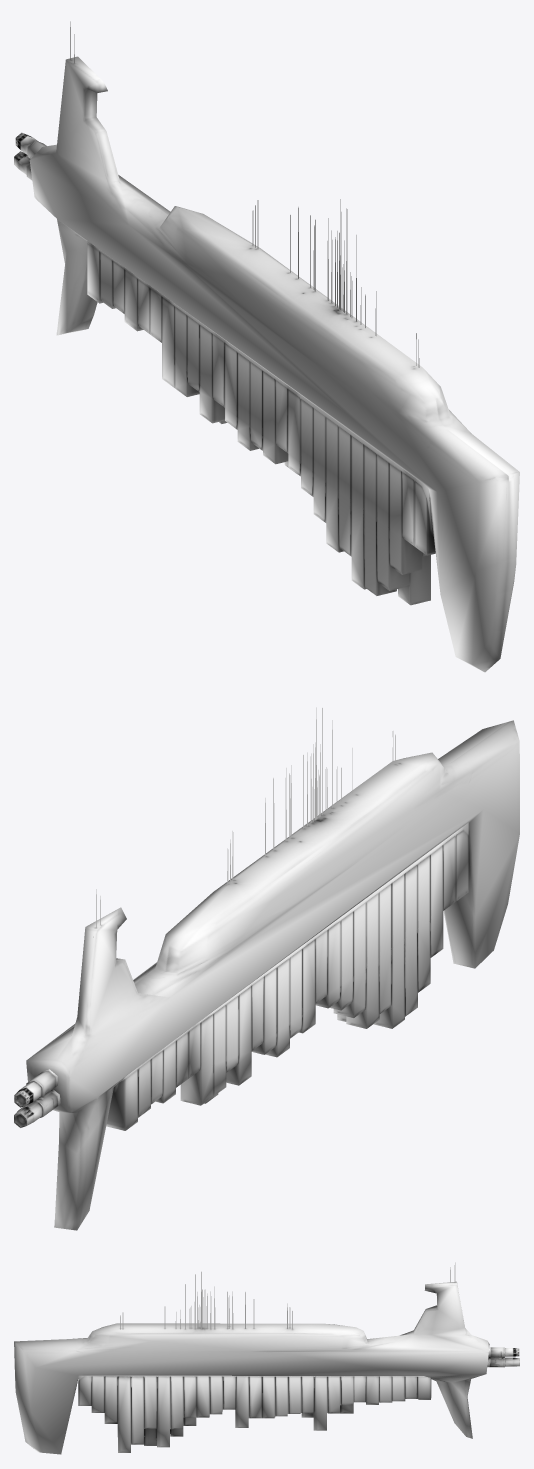
The model's file is Model_Ship_retopo.fbx.
The picture shows the model from 3 angles, top to bottom: view 1: azimuth 30°, elevation 25°; view 2: azimuth 150°, elevation 25°; view 3: azimuth 270°, elevation 25°; orthographic projection. The views are drawn at different scales.
Parts seen in each view (by area): view 1: Model_Ship_lo_poly, antenna_cards; view 2: Model_Ship_lo_poly, antenna_cards; view 3: Model_Ship_lo_poly, antenna_cards.
Boxes of the visible parts, x1,y1,x2,y2 form: Model_Ship_lo_poly: [14, 56, 519, 672]; antenna_cards: [70, 21, 419, 367]; Model_Ship_lo_poly: [14, 720, 519, 1230]; antenna_cards: [93, 707, 395, 937]; Model_Ship_lo_poly: [14, 1281, 519, 1454]; antenna_cards: [120, 1262, 455, 1329].
Size of the model in its own units: 3.47 by 25.77 by 62.31.
Materials: 2 (1 with a texture image).
